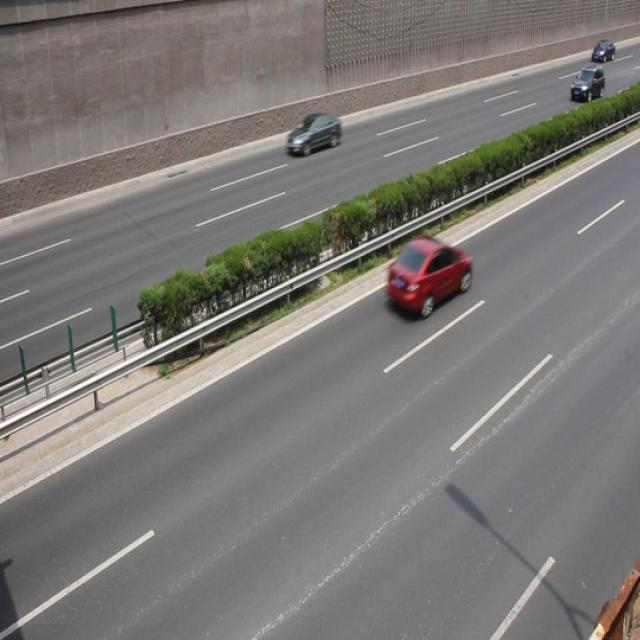car: (386, 235, 469, 318), (285, 112, 340, 156), (568, 65, 603, 103)
